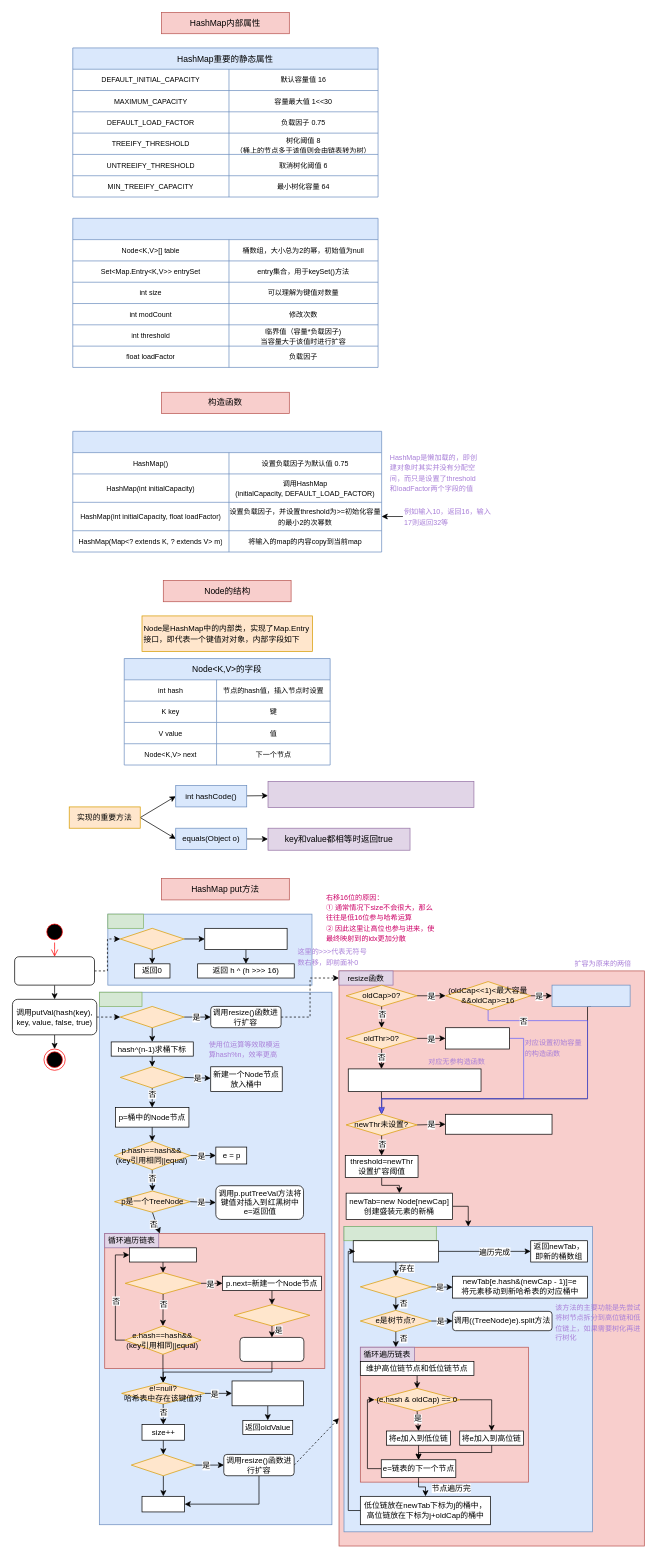
Some shapes in this 657 by 1558 pixel diagram are drawn without their labels. Here are the shapes that lost their labels. From the top down, the box of each, then its label:
(72, 218, 378, 367): HashMap字段
(72, 431, 382, 552): HashMap的构造函数
(267, 781, 474, 808): Objects.hashCode(key) ^ Objects.hashCode(value)，即用key和value的哈希值异或得到
(107, 913, 143, 928): hash方法
(120, 928, 184, 950): key==null?
(204, 928, 287, 950): h = key.hashCode()
(14, 956, 95, 985): 调用hash方法，根据key计算hash值
(99, 992, 142, 1006): putVal方法
(551, 984, 630, 1006): newCap=oldCap<<1 newThr=oldThr<<1
(120, 1006, 184, 1028): table是否为空
(445, 1027, 509, 1049): newCap=oldThr
(120, 1066, 184, 1088): 桶是否为空
(348, 1068, 481, 1092): newCap = 默认容量16 newThr = 负载因子0.75*默认容量16
(445, 1114, 552, 1134): newThr=newCap*loadFactor
(343, 1226, 436, 1241): 遍历旧桶数组oldTab
(353, 1240, 438, 1262): 取下一个非空桶元素e 下标为j
(129, 1247, 197, 1262): e=p.next
(125, 1272, 201, 1294): 节点为空null?
(360, 1276, 431, 1298): e.next==null? 桶中只有一个节点
(233, 1304, 310, 1326): binCount>= 树化阈值?
(239, 1337, 304, 1361): 调用treeifyBin函数对桶进行树化
(231, 1380, 304, 1406): 设置value e.value = value
(131, 1454, 195, 1476): size>=threshold?
(141, 1496, 185, 1512): 返回null
